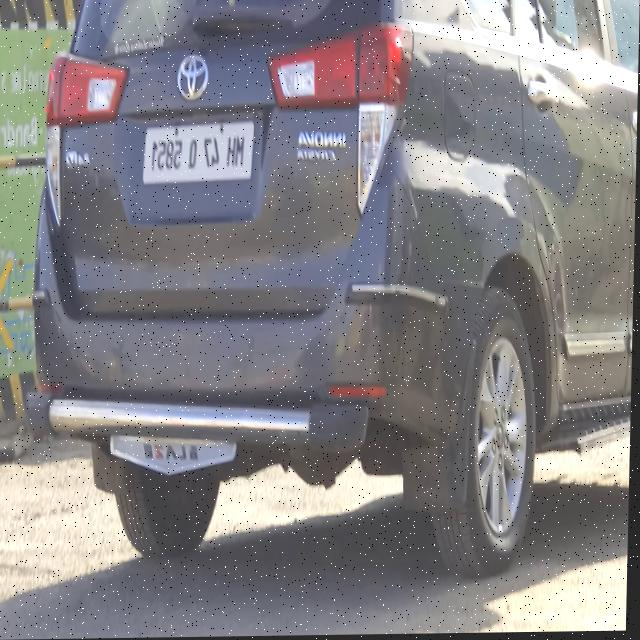plate: (143, 118, 257, 185)
